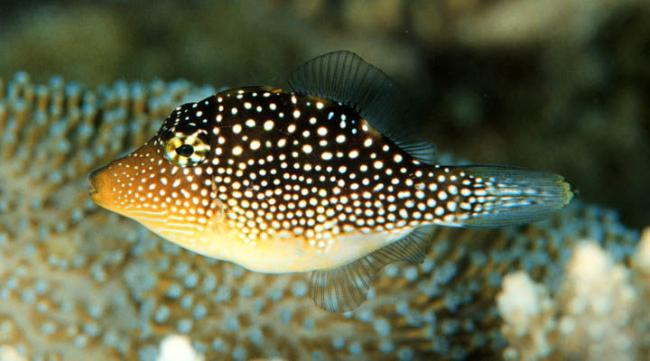fish: (89, 49, 574, 274)
